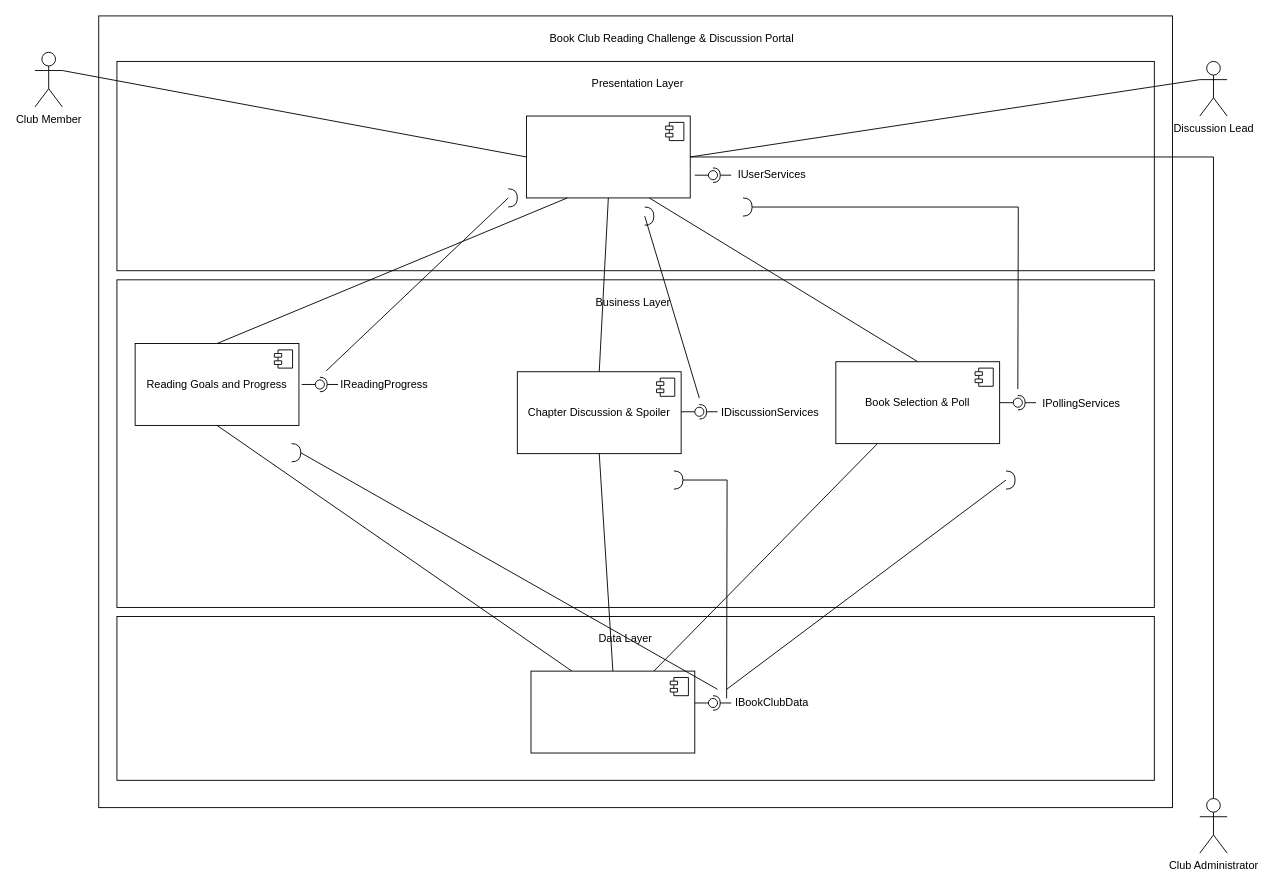
Some shapes in this 1273 by 888 pixel diagram are drawn without their labels. Each missing label, with the centre of its shape:
Book Club Database: the point at 612,711
User Interface: the point at 608,156
